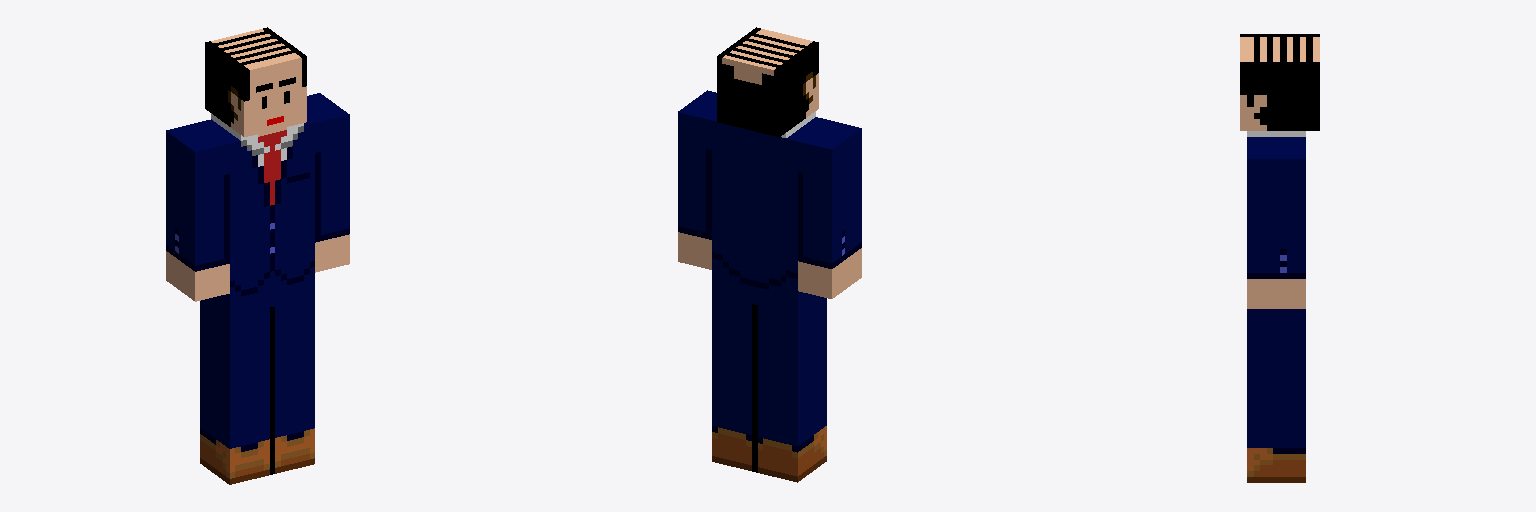
The picture shows the model from 3 angles: view 1: azimuth 30°, elevation 25°; view 2: azimuth 150°, elevation 25°; view 3: azimuth 270°, elevation 25°; orthographic projection.
Visible parts, largest first — view 1: object 1; view 2: object 1; view 3: object 1.
Part boxes in pixels (x1,y1,x2,y2): object 1: (166,27,349,484); object 1: (678,27,861,482); object 1: (1240,34,1319,482).
Bounding box in the file's own units: 2.7 × 6.9 × 1.2.
1 materials, 1 textured.